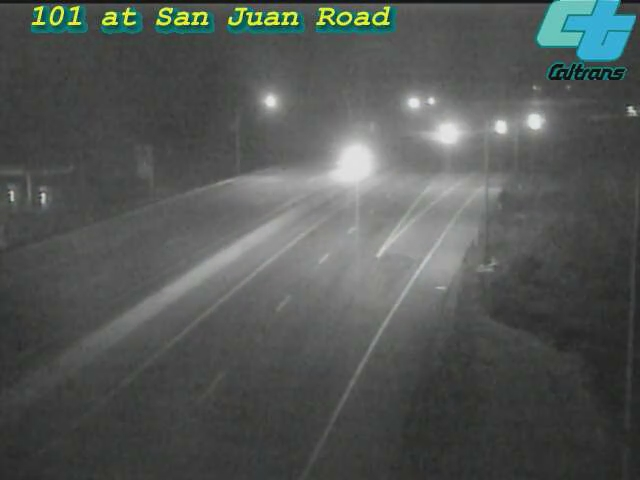vehicle: (306, 124, 386, 204), (422, 110, 472, 160), (472, 103, 522, 153), (505, 97, 555, 147), (609, 86, 640, 136)
